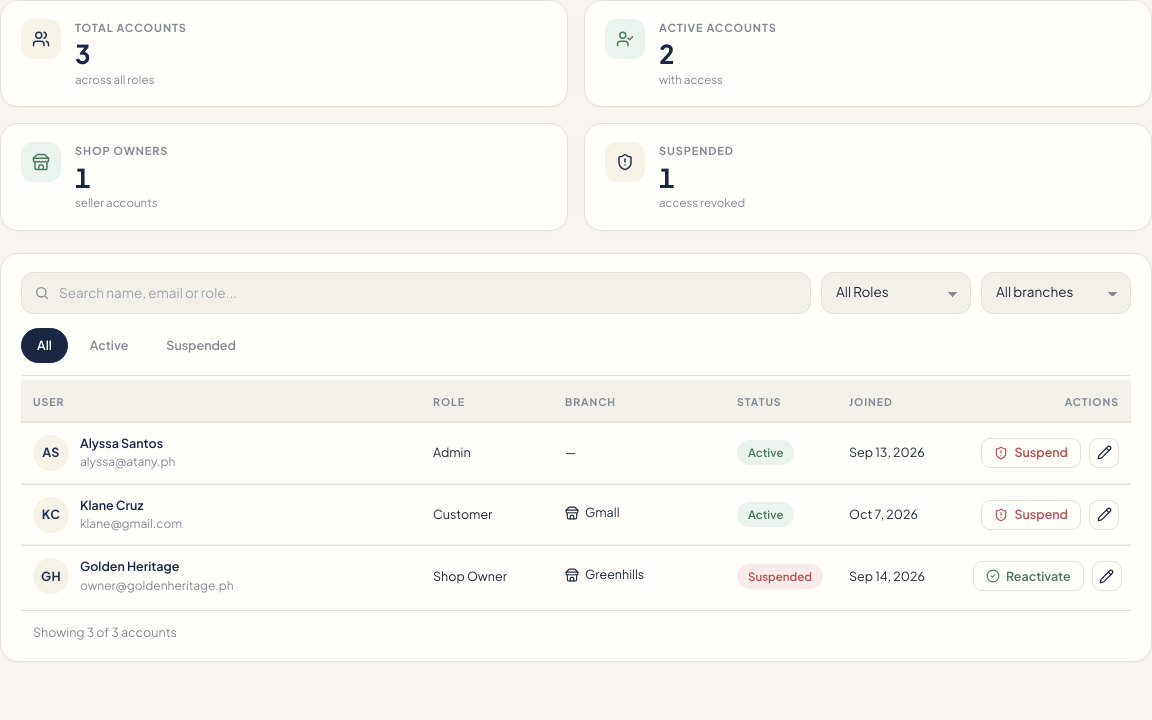
Scenario: search, role filter, branch filter and status tabs › branch filter uses real branch records via preferred_branch_id
Expected: the text "Klane Cruz" is shown, x1=80 y1=496 x2=143 y2=512
Select "Greenhills" in the dropdown named "filter by branch" at [1056, 293], box x1=981 y1=272 x2=1131 y2=314
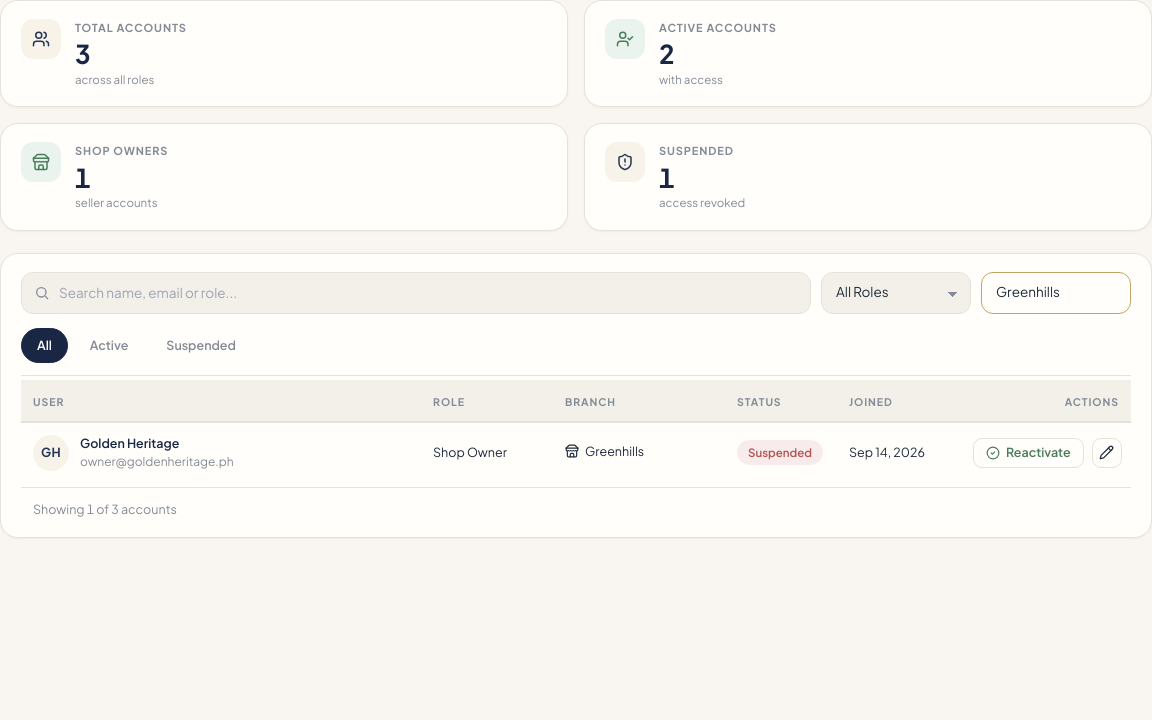
Expected: the text "Golden Heritage" is shown, x1=80 y1=434 x2=180 y2=450
Now the text "Klane Cruz" is gone
